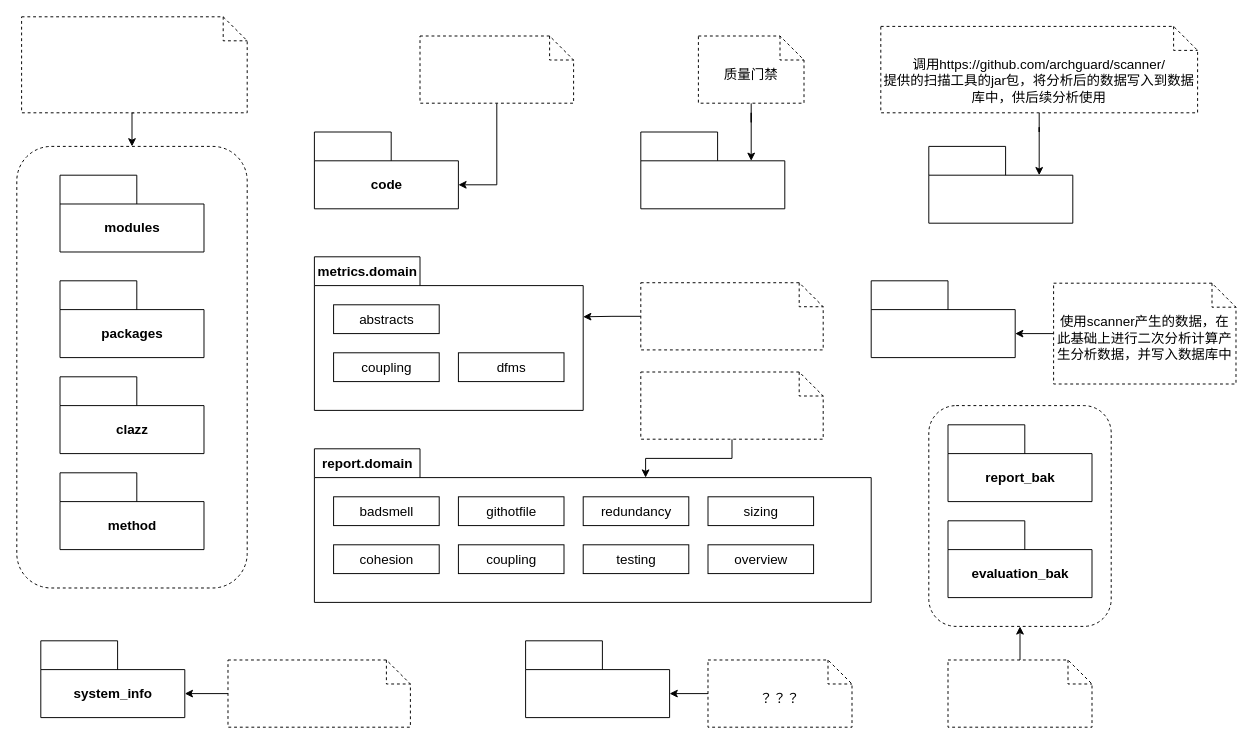
This 1253x744 diagram has some shape labels left out. Each missing label, with the centre of its shape:
"@deprecated，已废弃" belongs at pixel 1019 693.
"evaluation" belongs at pixel 597 679.
"module->package->class->method/field四层代码模型， 数据来源于scan_javasource工具" belongs at pixel 134 64.
"quality_gate" belongs at pixel 712 170.
"scanner" belongs at pixel 1000 184.
"scanner2" belongs at pixel 942 319.
"各种代码质量相关的指标" belongs at pixel 731 405.
"存储代码的树状架构" belongs at pixel 496 69.
"抽象程度、耦合度、DFMS 指标" belongs at pixel 731 316.
"用户，项目相关基本信息" belongs at pixel 318 693.
